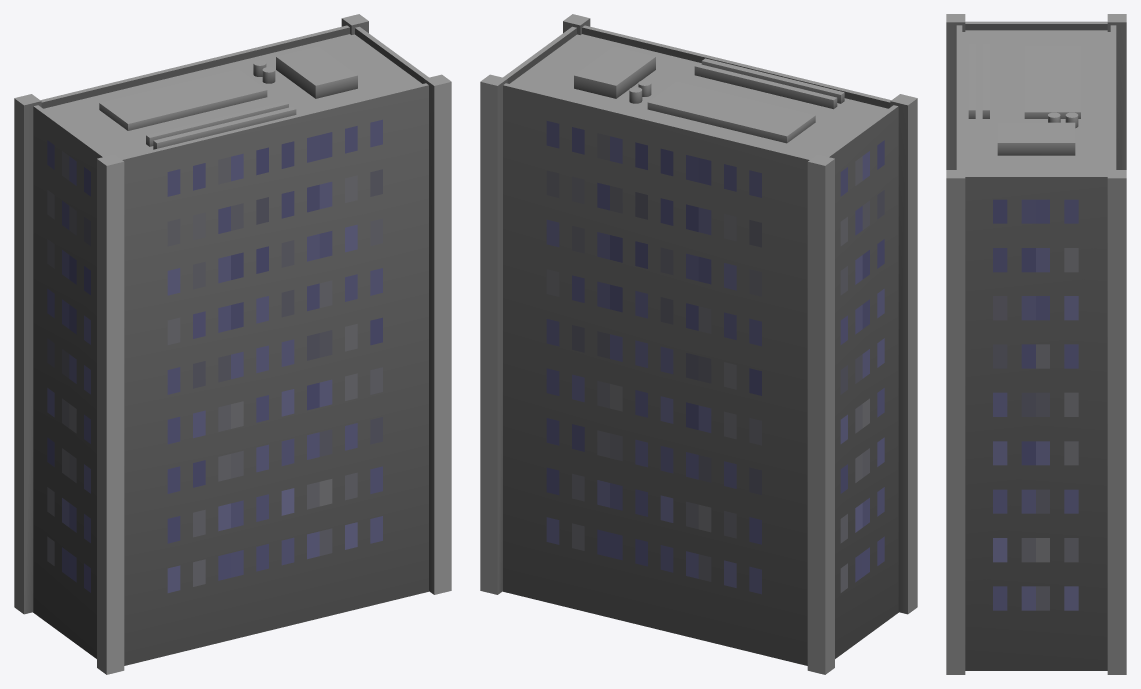
3 views of the same model, side by side, from view 1: azimuth 30°, elevation 25°; view 2: azimuth 150°, elevation 25°; view 3: azimuth 270°, elevation 25° (orthographic). The views are drawn at different scales.
Parts seen in each view (by area): view 1: base.182; view 2: base.182; view 3: base.182.
Boxes of the visible parts, left/top/right/bottom form: base.182: left=14, top=14, right=451, bottom=674; base.182: left=480, top=14, right=917, bottom=674; base.182: left=946, top=14, right=1126, bottom=674.
Bounding box in the file's own units: 0.352 × 0.5 × 0.1635.
